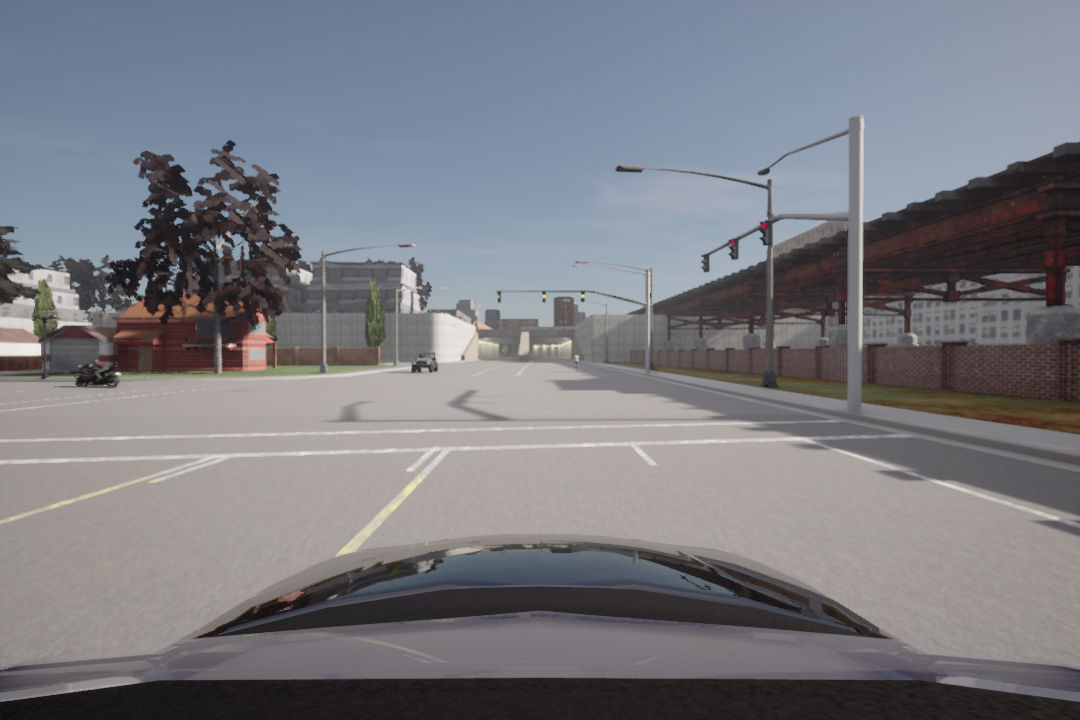TrafficLight: (758, 220, 774, 247), (727, 237, 740, 262), (699, 252, 711, 273), (541, 290, 548, 305), (580, 289, 586, 302), (496, 291, 502, 303)
